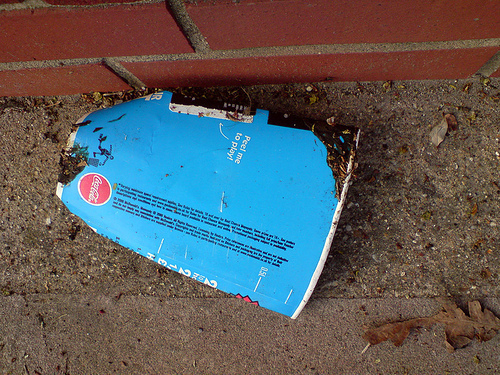litter: (54, 90, 361, 317)
